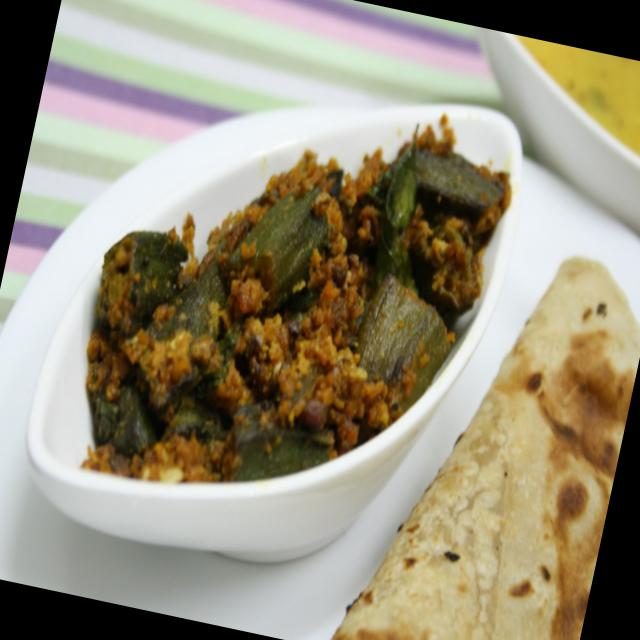BhindiMasala: (59, 49, 524, 546)
